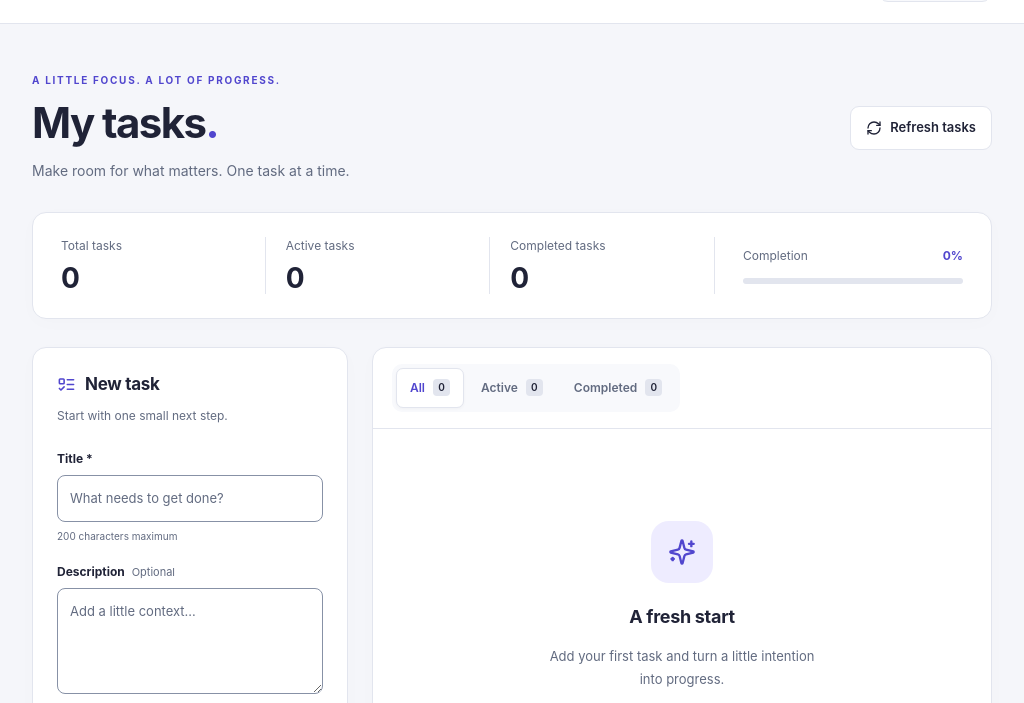
Test: Task workspace › prevents duplicate in-flight submissions and requires refresh after an uncertain POST
Type "Only once" into the field labelled "Title *" at {"x": 190, "y": 499}, box [57, 476, 323, 522]
(page scrolled)
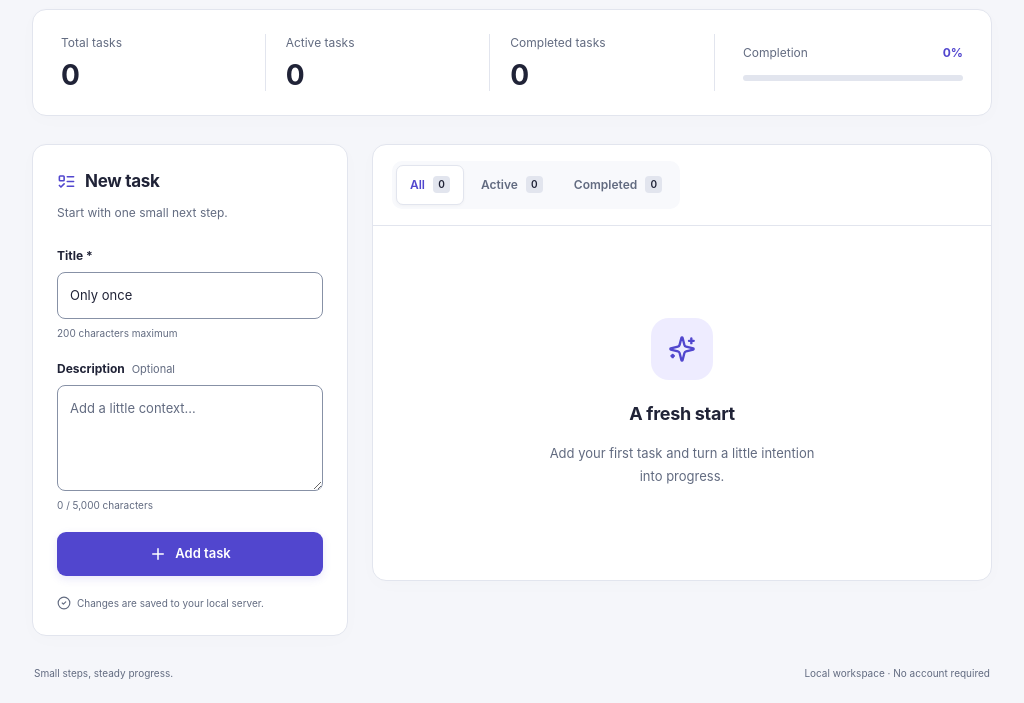
Submit the form named "Create task", box [57, 248, 323, 576]
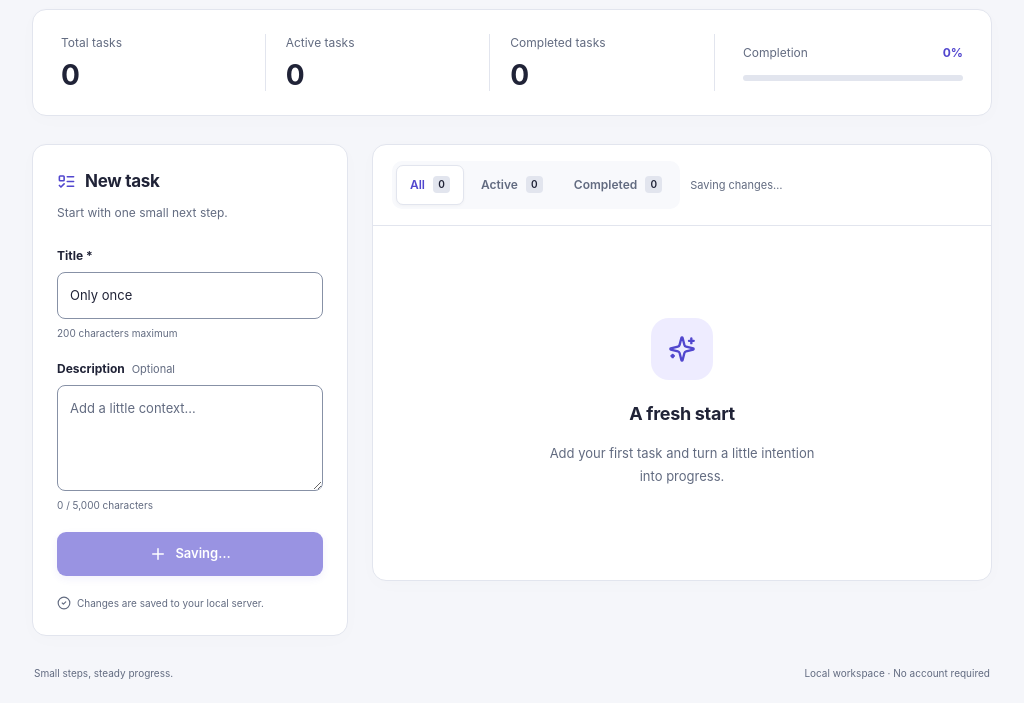
Submit the form named "Create task", box [57, 248, 323, 576]
(page scrolled)
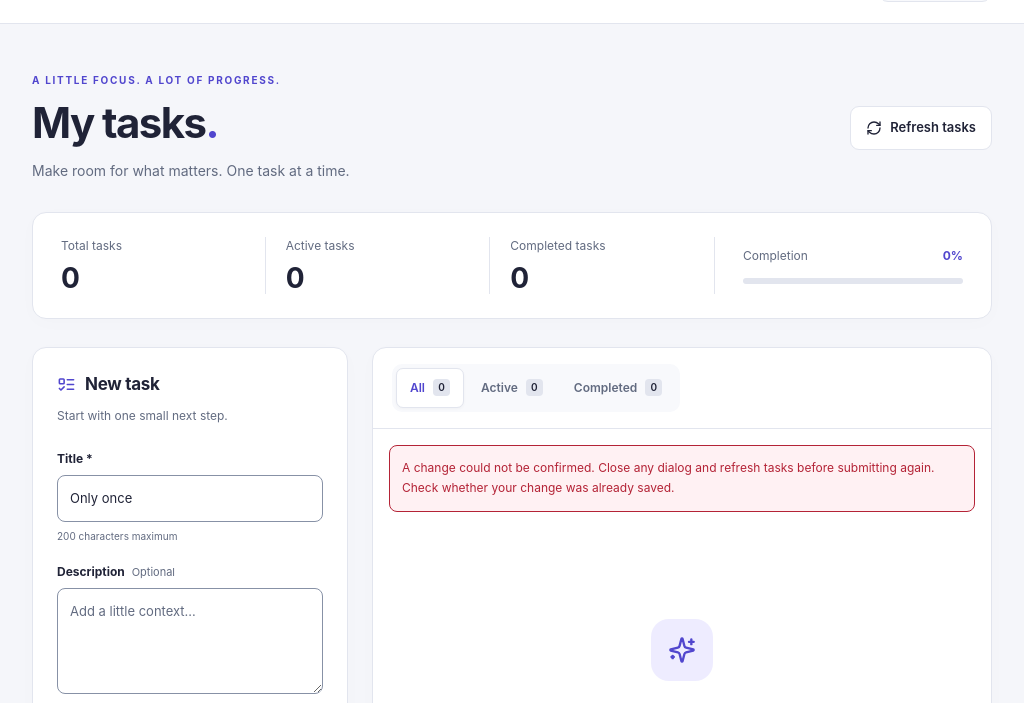
Expected: the text "A change could not be confirmed" is shown, [402, 460, 934, 495]
Click the button "Refresh tasks" at {"x": 921, "y": 128}, box [850, 106, 992, 150]
(page scrolled)
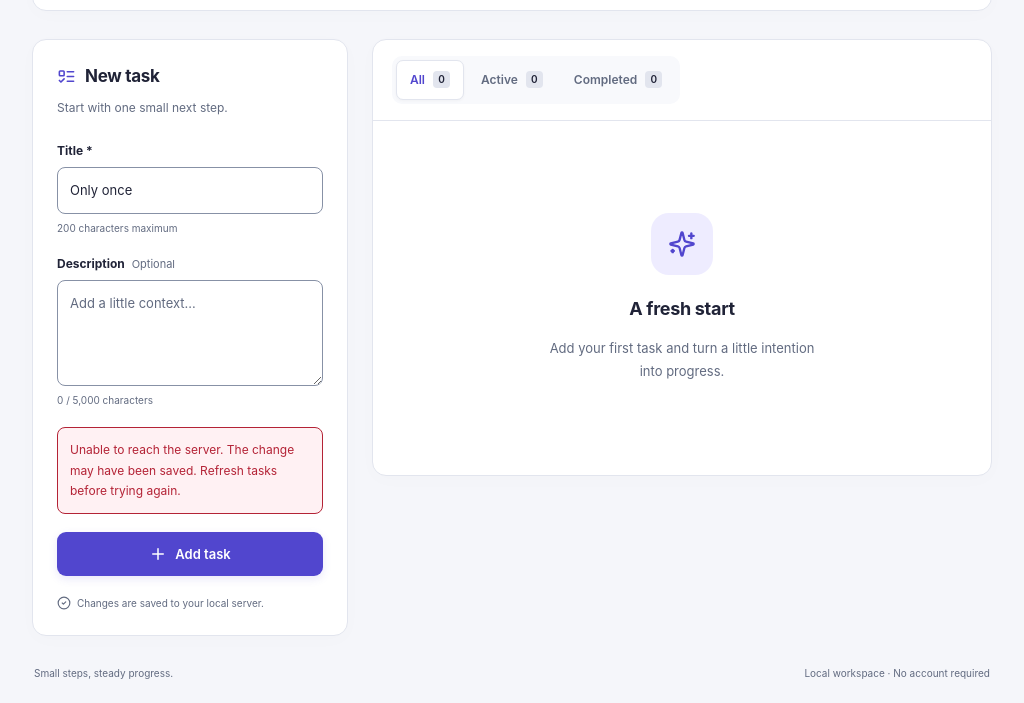
Expected: the button "Add task" is enabled, [57, 532, 323, 576]
